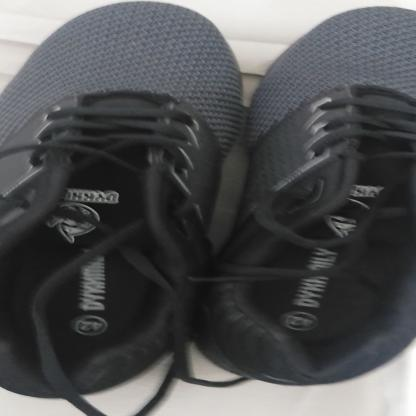safety-shoe: (2, 0, 416, 416)
